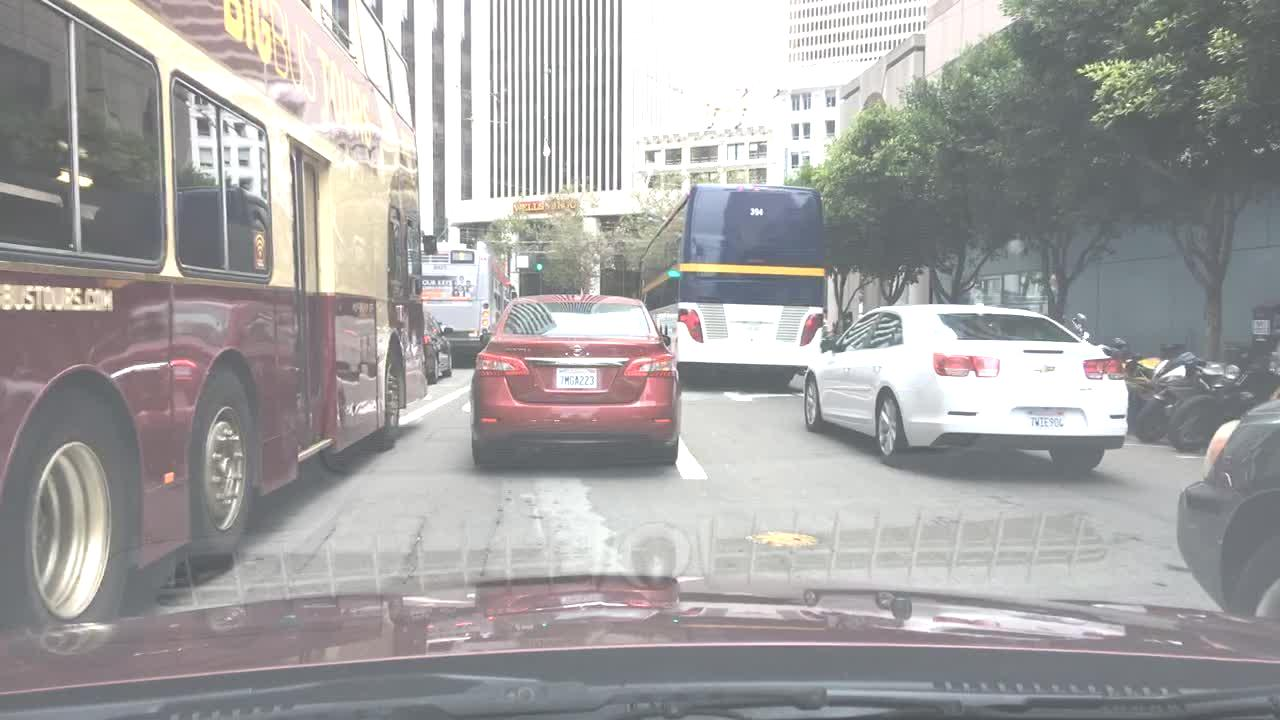Nissan: (568, 341, 589, 364)
chevrolet: (1029, 360, 1056, 377)
